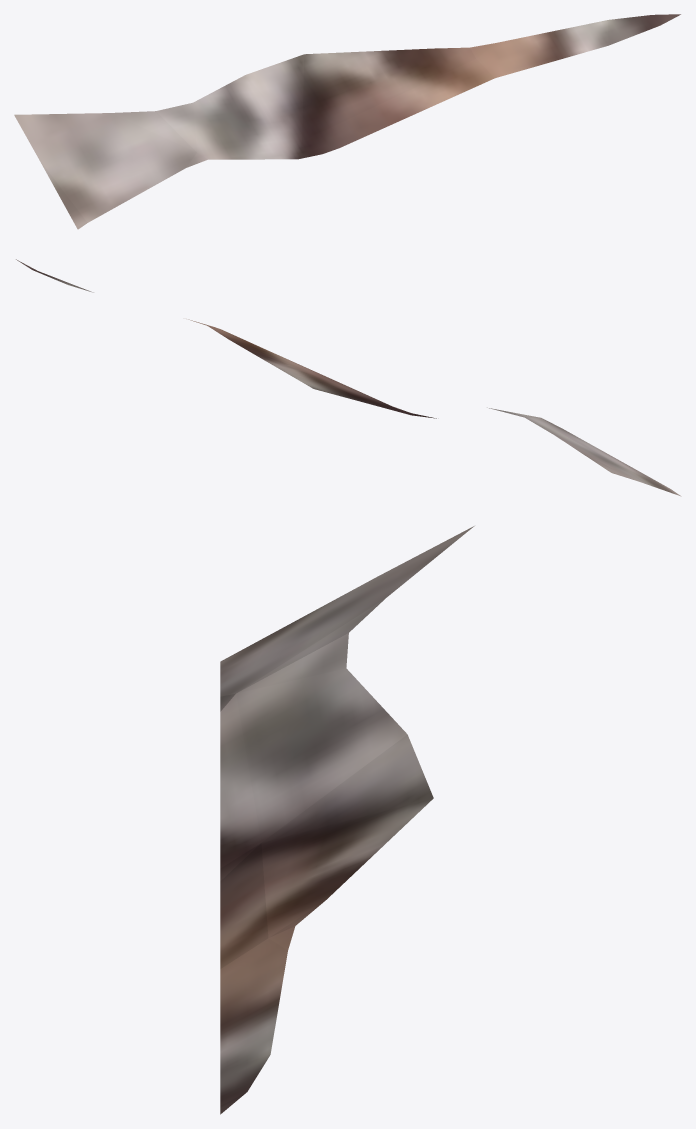
3 renders of one model, top to bottom at view 1: azimuth 30°, elevation 25°; view 2: azimuth 150°, elevation 25°; view 3: azimuth 270°, elevation 25°, orthographic. The views are drawn at different scales.
Bounding box in the file's own units: 0.3869 × 0.0418 × 0.0708.
1 material, 1 textured.
